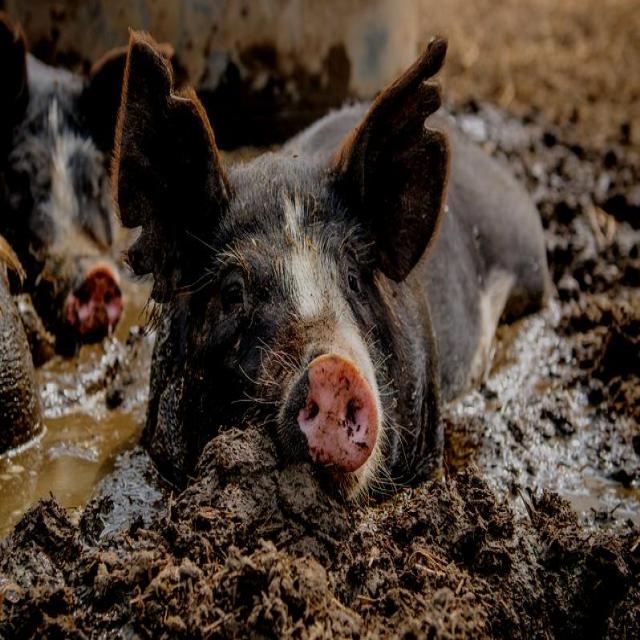pig: (81, 34, 549, 498), (0, 13, 128, 354)
